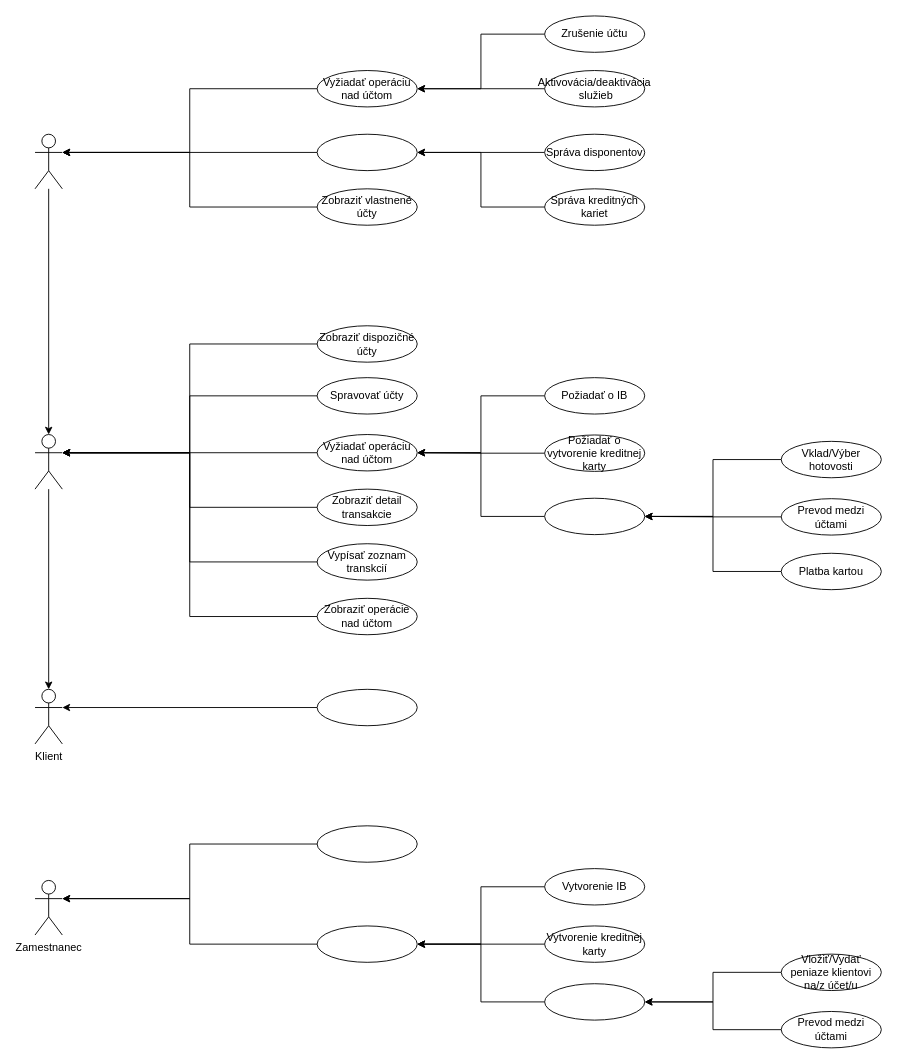
Some shapes in this 897 by 1064 pixel diagram are drawn without their labels. The centre of each missing label's shape, as x and y in pixels:
"Disponent" belongs at (x=48, y=461).
"Požiadať o vytvorenie účtu" belongs at (x=366, y=707).
"Spravovať účet" belongs at (x=366, y=152).
"Vlastník" belongs at (x=48, y=161).
"Vykonanie transakcie" belongs at (x=594, y=1001).
"Vykonať operáciu nad účtom na žiadosť klienta" belongs at (x=366, y=943).
"Vykonať transakciu" belongs at (x=594, y=516).
"Vytvoriť účet" belongs at (x=366, y=843).
